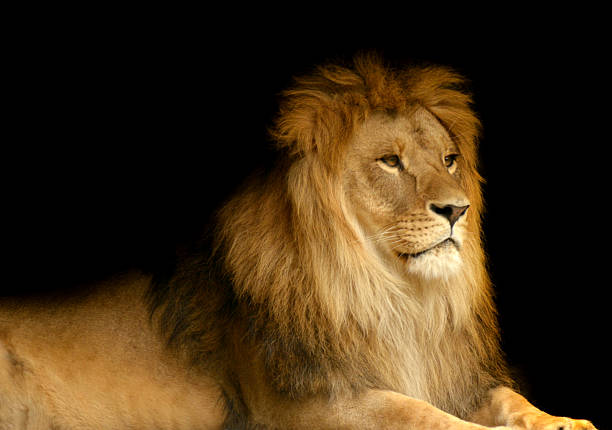lion: (175, 26, 569, 430)
